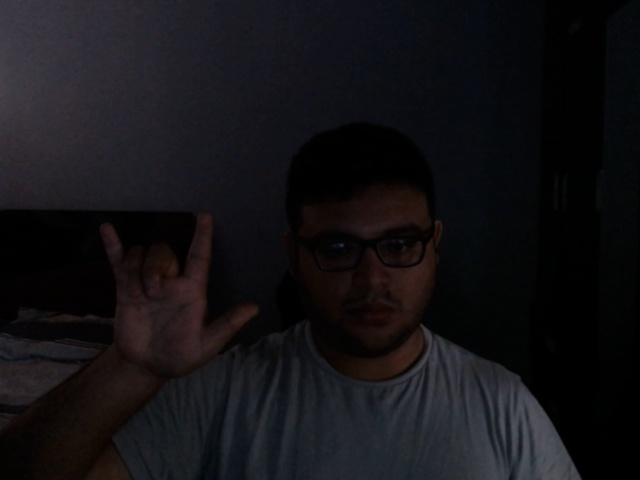I love you: (90, 202, 261, 393)
